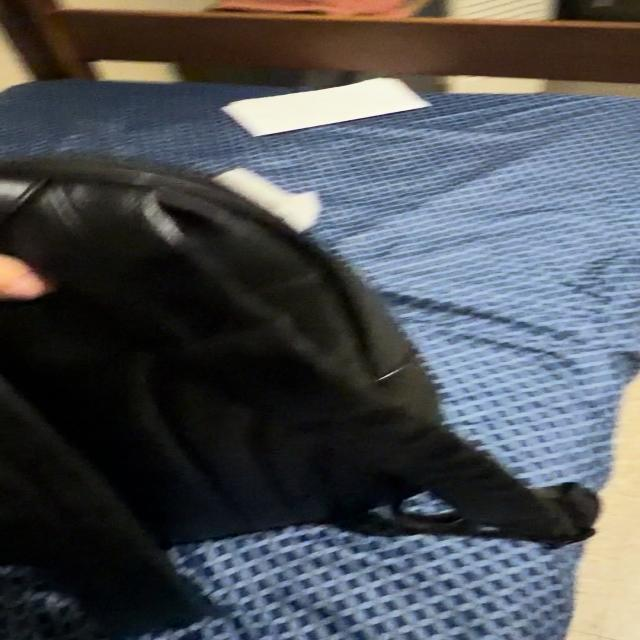backpack: (0, 158, 597, 634)
